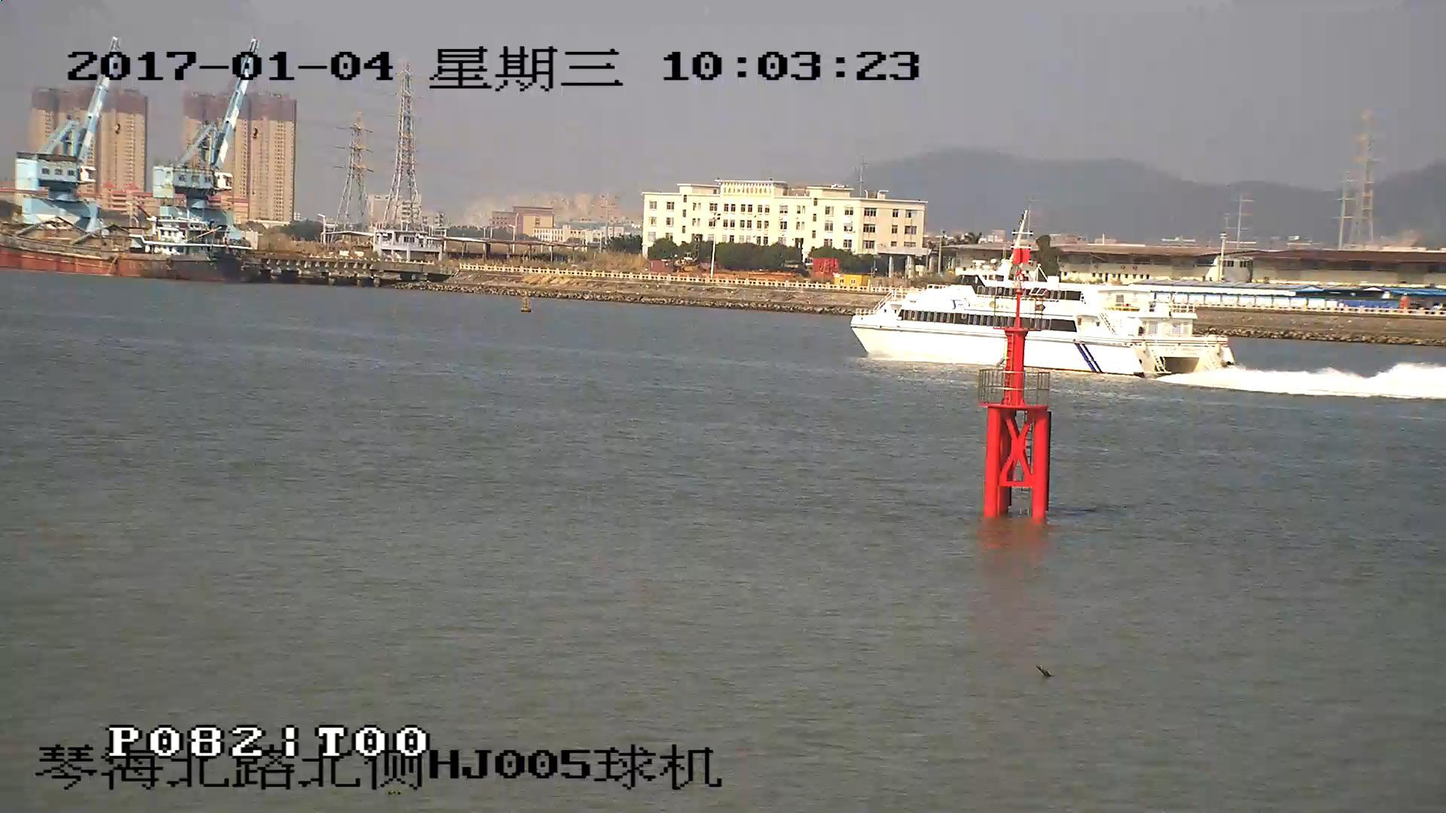passenger ship: (852, 209, 1236, 382)
